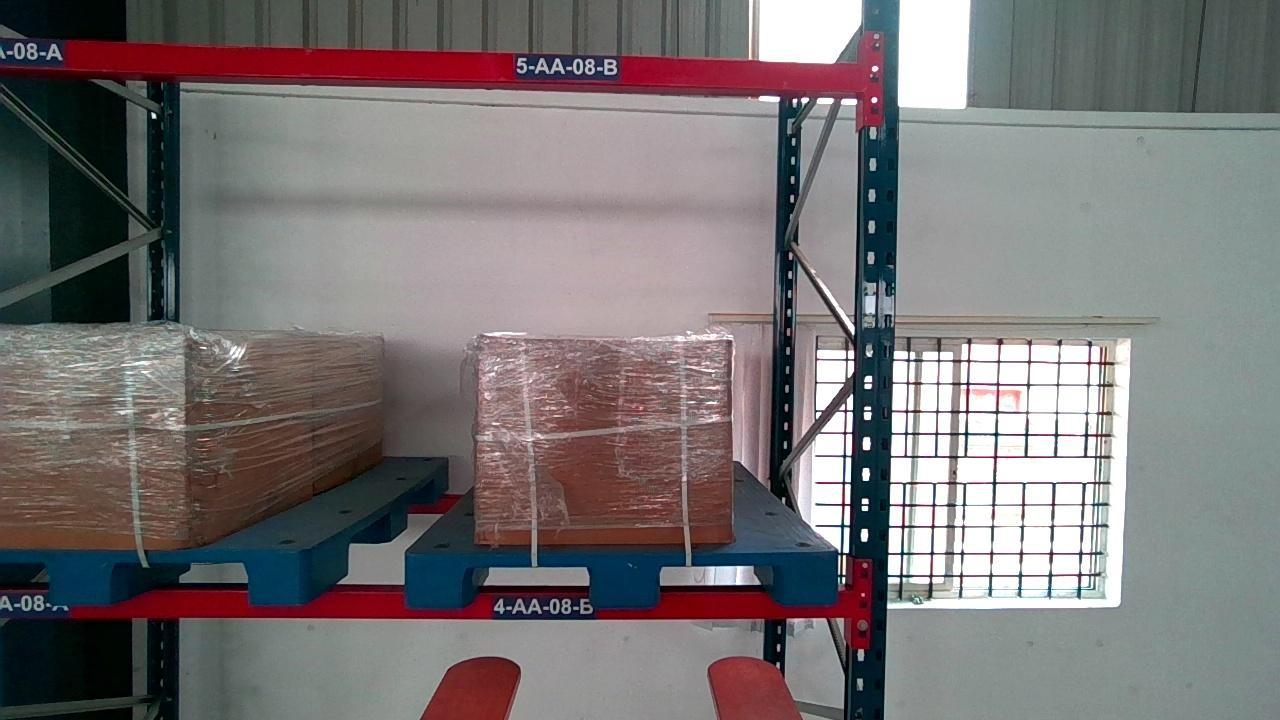h_rack: (2, 38, 864, 92), (18, 585, 858, 621)
small_pallet: (407, 549, 840, 605), (2, 548, 303, 602)
